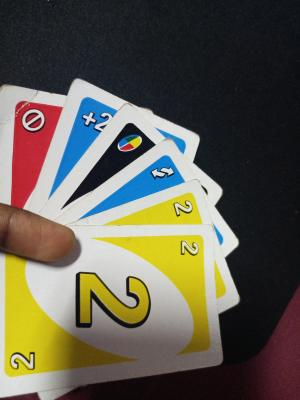num_2: (146, 236, 206, 271)
reverse: (139, 163, 182, 182)
skip: (10, 96, 49, 182)
wild: (113, 121, 148, 161)
yellow: (150, 197, 201, 222)
